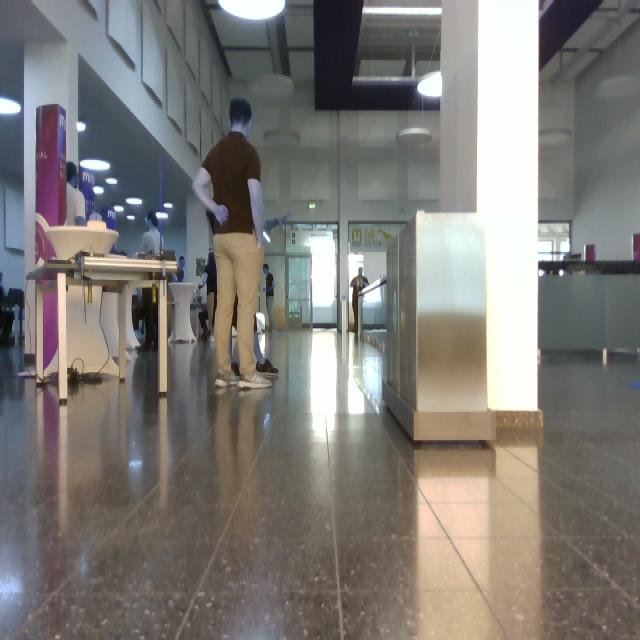door: (286, 222, 337, 326)
light bulb: (219, 1, 285, 21), (418, 70, 441, 97), (1, 97, 21, 116), (80, 160, 110, 172), (126, 198, 142, 205), (156, 212, 169, 220), (78, 121, 87, 132), (264, 230, 271, 244), (95, 186, 104, 194), (107, 178, 116, 185), (164, 202, 172, 209)
person: (193, 98, 271, 389), (1, 281, 24, 346), (351, 268, 369, 334), (141, 212, 162, 254)
pillar: (417, 1, 541, 440), (25, 44, 78, 274), (27, 282, 35, 353)
table: (26, 216, 177, 402)
tiled floor: (1, 332, 640, 640)
trash bin: (384, 213, 495, 440)
